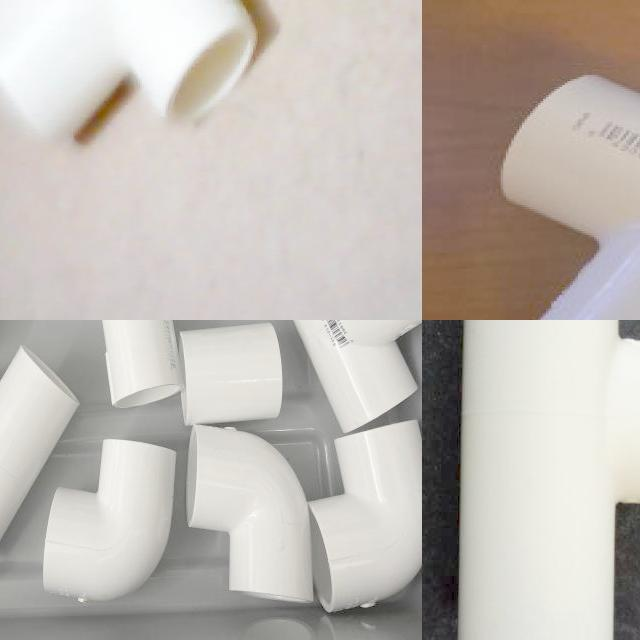L Joint: (187, 425, 330, 608), (43, 440, 180, 604), (309, 421, 422, 616)
T Joint: (456, 320, 640, 640), (498, 74, 640, 320), (0, 346, 80, 548), (291, 320, 422, 431)
